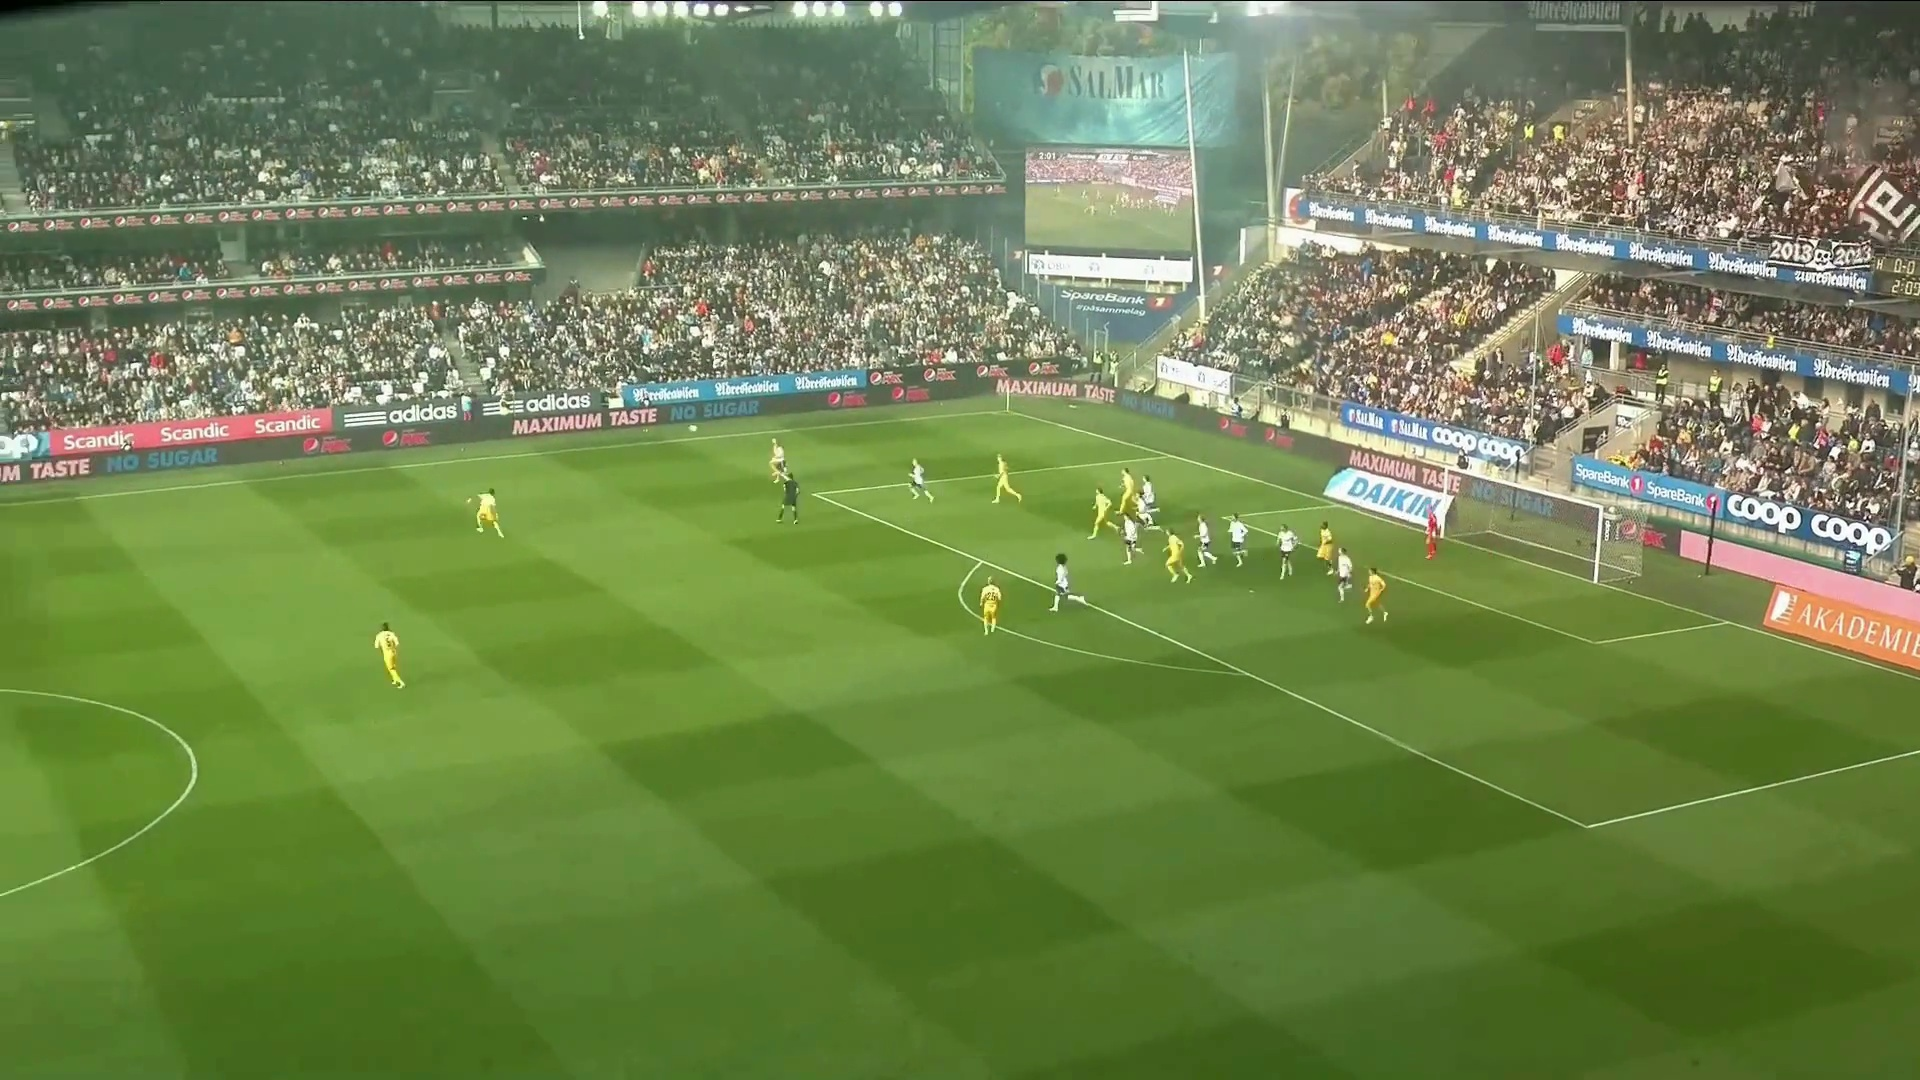ball: (686, 421, 699, 434)
player: (1049, 552, 1087, 614), (373, 620, 406, 689), (469, 487, 506, 538), (1162, 528, 1193, 584), (991, 453, 1023, 504), (1086, 487, 1116, 540), (1363, 566, 1389, 625), (775, 471, 801, 525), (979, 575, 1002, 635), (1194, 513, 1218, 566), (1226, 512, 1249, 567), (1136, 474, 1159, 528), (1277, 523, 1298, 580), (908, 457, 934, 503), (1120, 513, 1143, 565), (1316, 520, 1336, 575), (1333, 547, 1353, 602), (1117, 466, 1137, 514), (768, 437, 788, 483), (1424, 507, 1439, 560)
